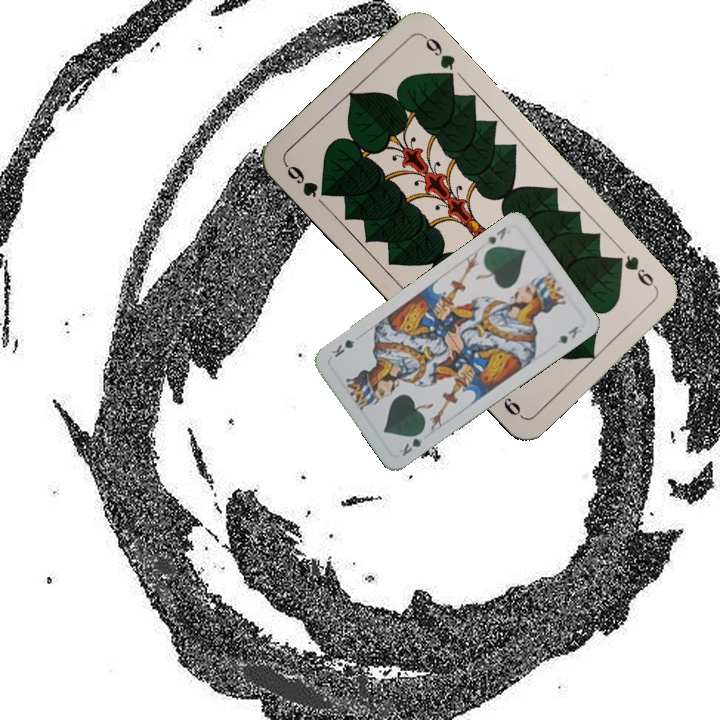G9: (610, 250, 660, 292), (281, 160, 333, 200)
GK: (394, 426, 427, 459), (483, 222, 509, 247)
